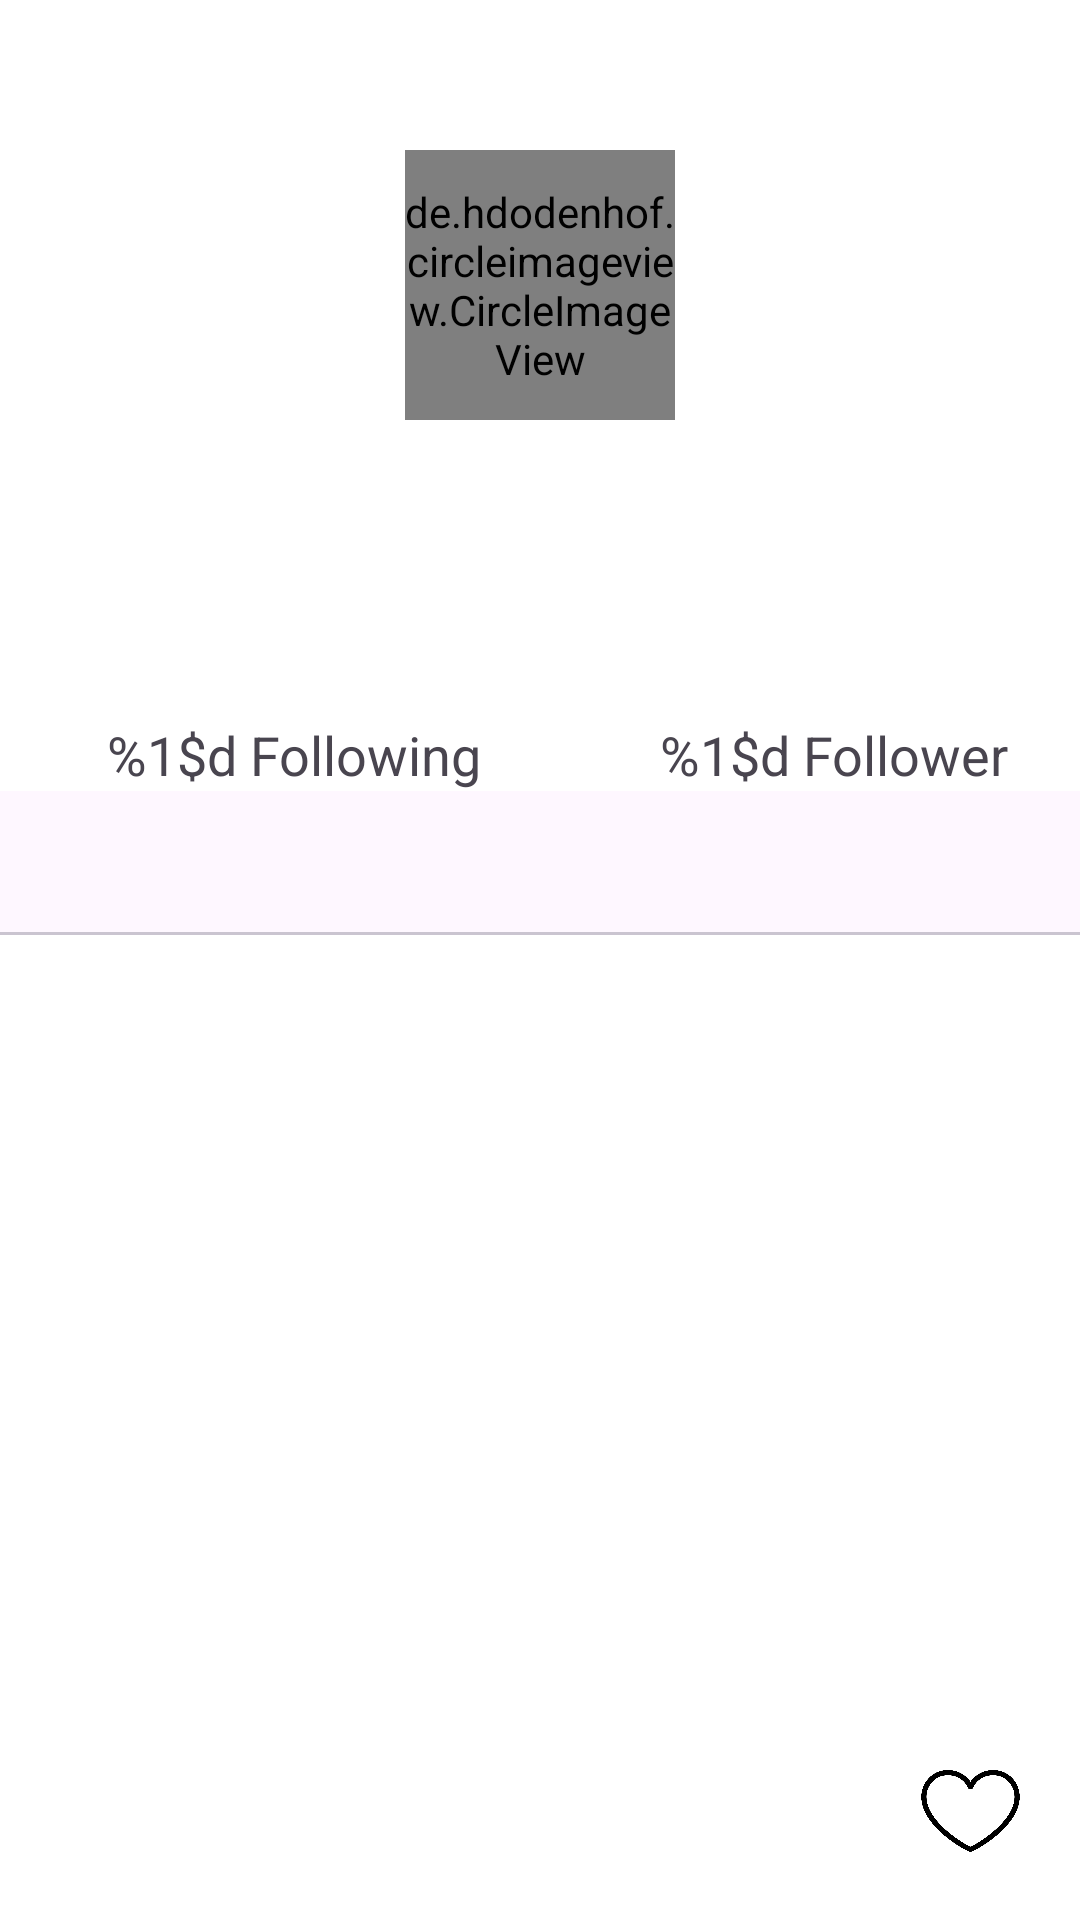

Icon click points for this 1080px×1920px phone screenshot, format (x=x, y=y):
favorite toogle: (x=970, y=1811)
